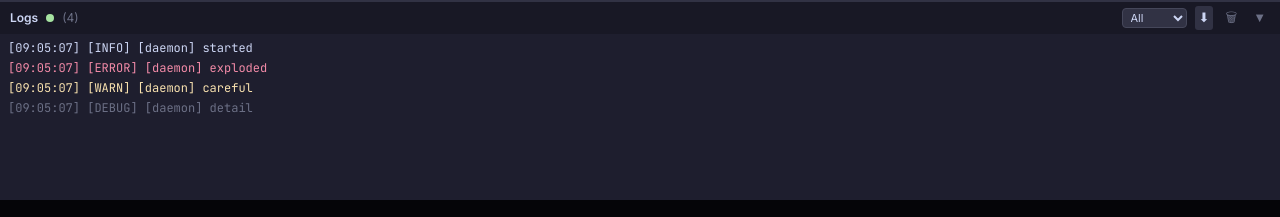
Test case: LogPanel › does not chase the newest line once auto-scroll is switched off
This screenshot has width=1280, height=217.
Step 1. Click the button titled "Auto-scroll" → click(1204, 18), box [1194,6,1213,30]
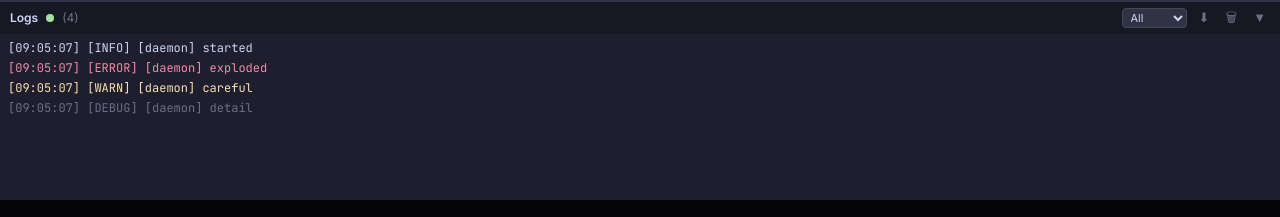
Step 2. Select "Error" in the dropdown with class "level-filter" → (1154, 18), box [1122,8,1186,28]
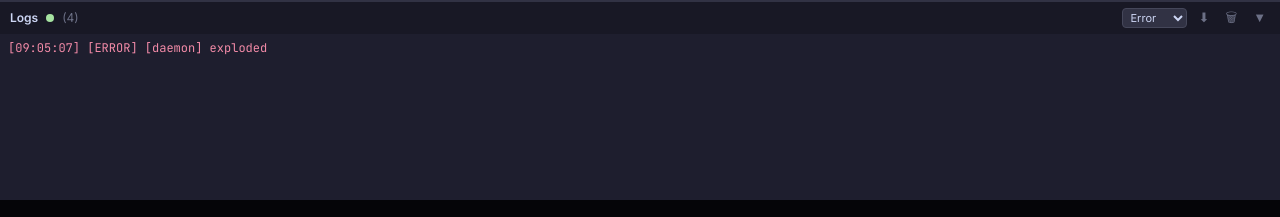
Check: the number of elements with class "log-entry" is 1, box [8,40,267,56]
